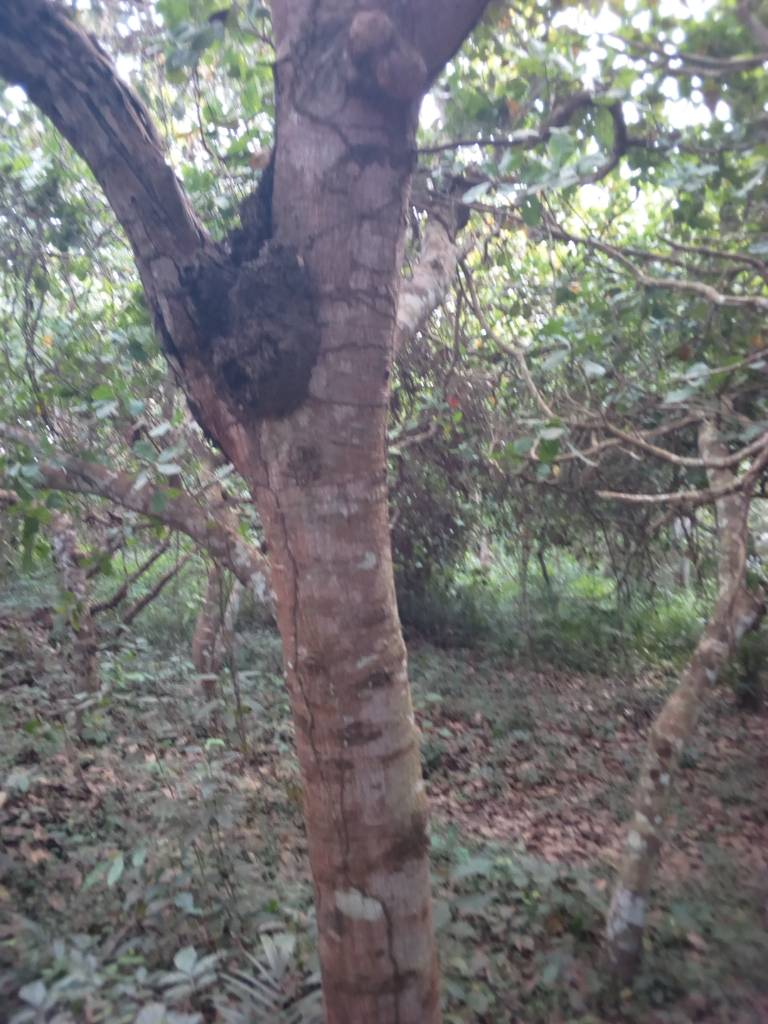Virose: (180, 216, 362, 465)
